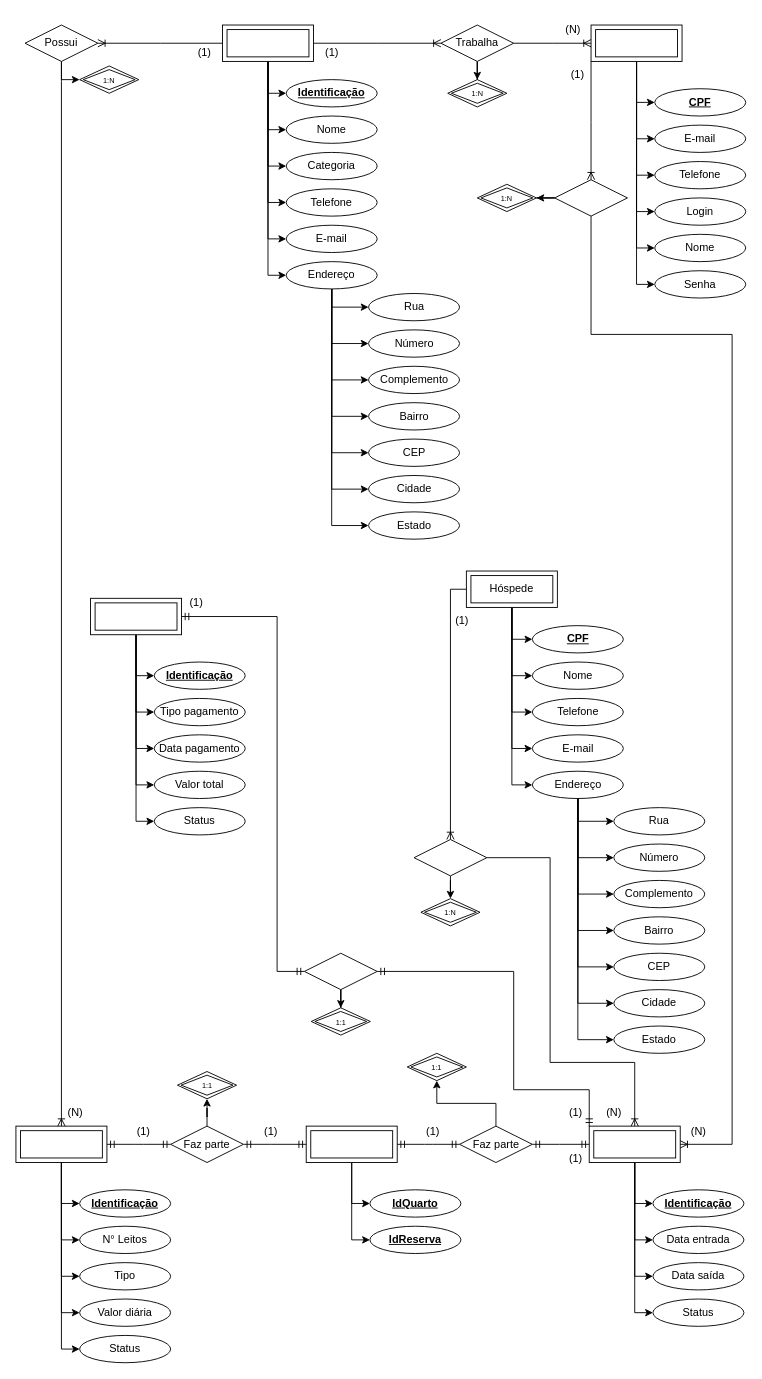
Image size: 762x1379. Some labels were removed from this diagram. Here are the shapes that lost their labels. From the top down, the centre of each, then its label:
At (x=267, y=42): "Hotel".
At (x=636, y=42): "Funcionário".
At (x=590, y=197): "Realiza".
At (x=136, y=616): "Pagamento".
At (x=450, y=857): "Faz".
At (x=340, y=971): "Gera".
At (x=61, y=1144): "Quarto".
At (x=351, y=1144): "ReservaQuarto".
At (x=634, y=1144): "Reserva".
